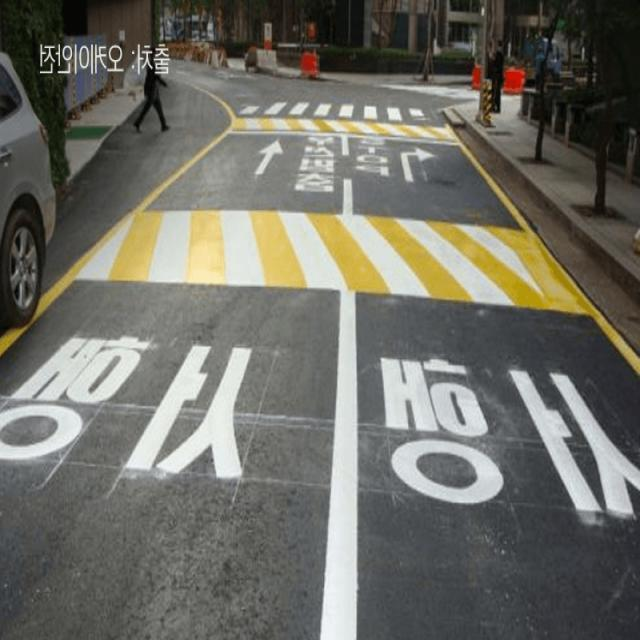speedbreaker: (77, 195, 601, 307)
